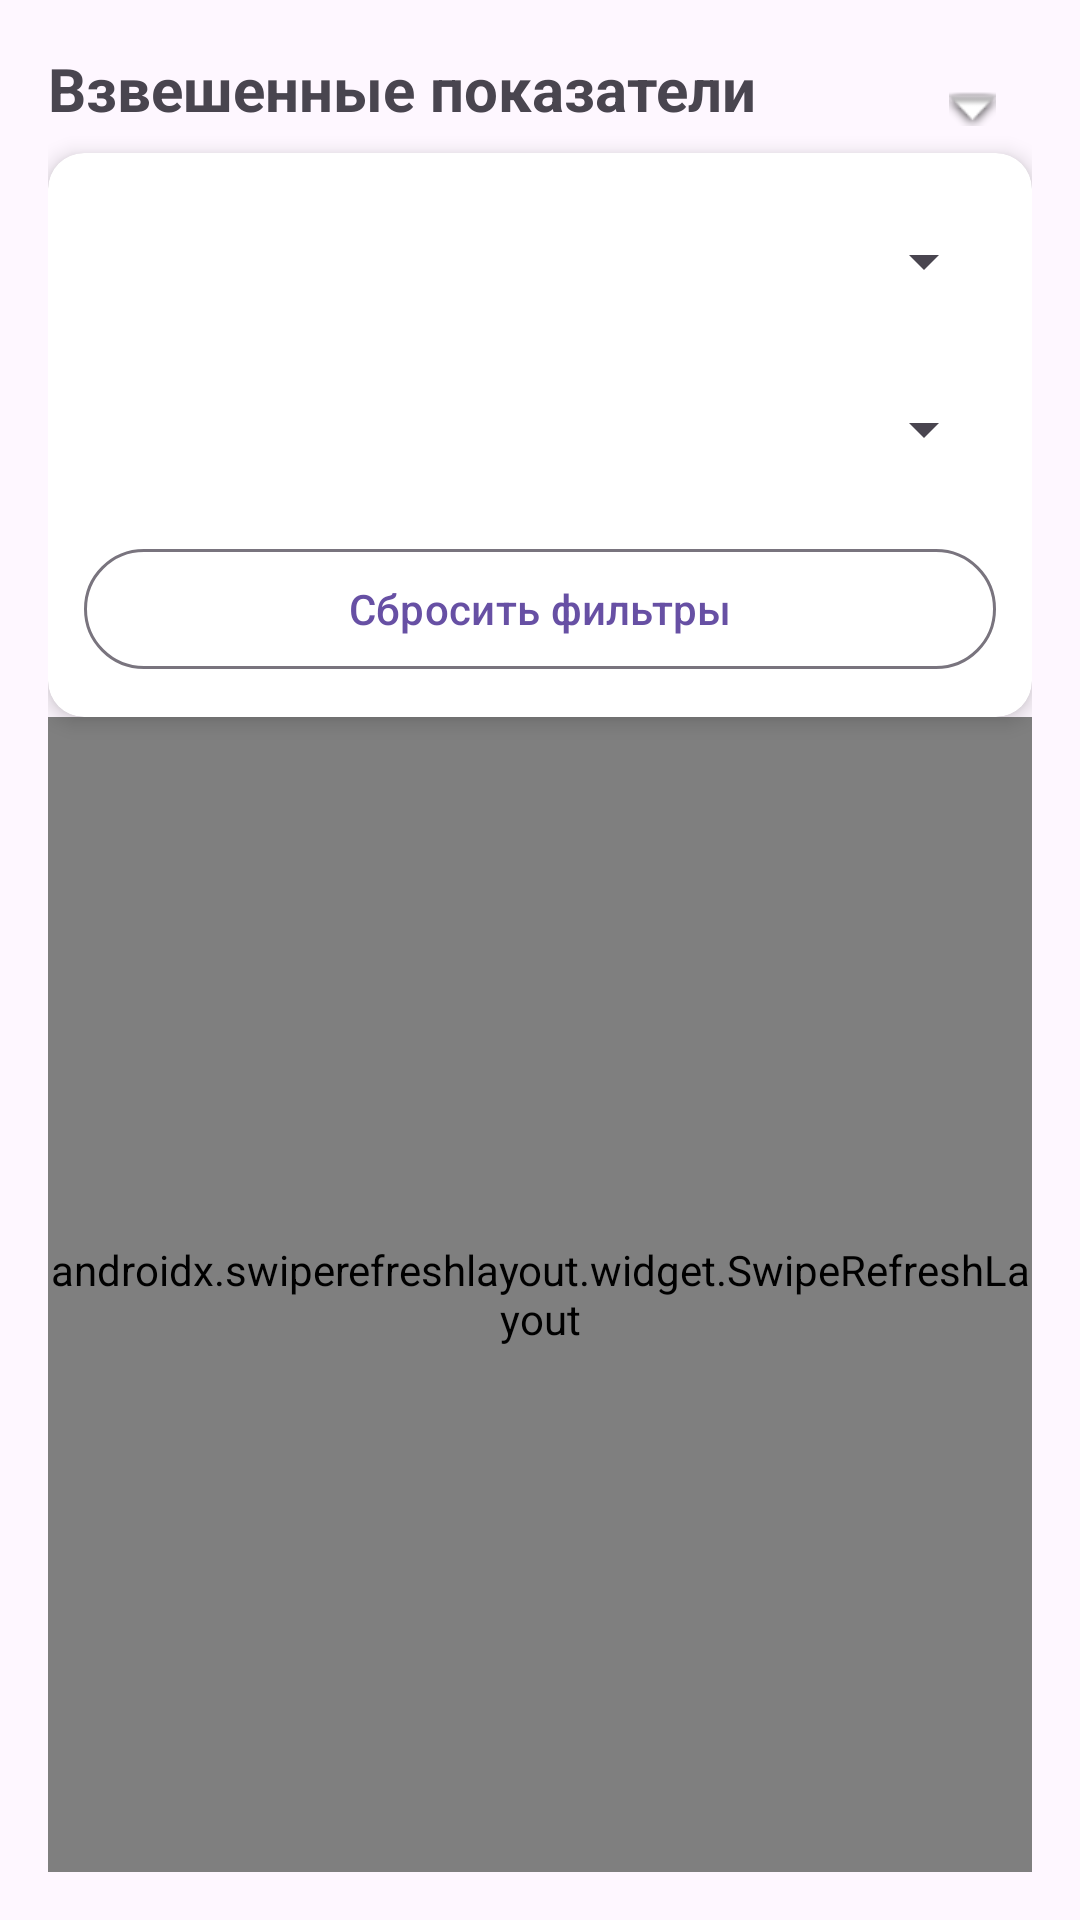

Screen size 1080px×1920px. Icon name, then its box in pixels as (x1, y1, x2, y2):
arrow down float: (949, 93, 996, 125)
